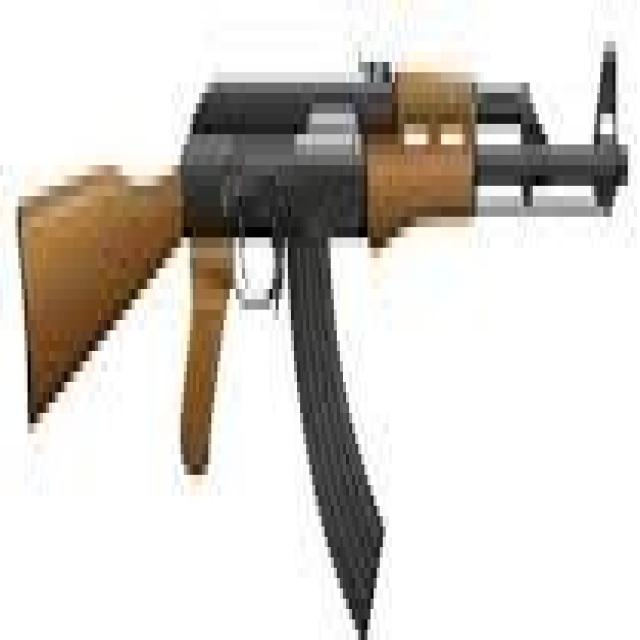rifle: (4, 6, 635, 640)
